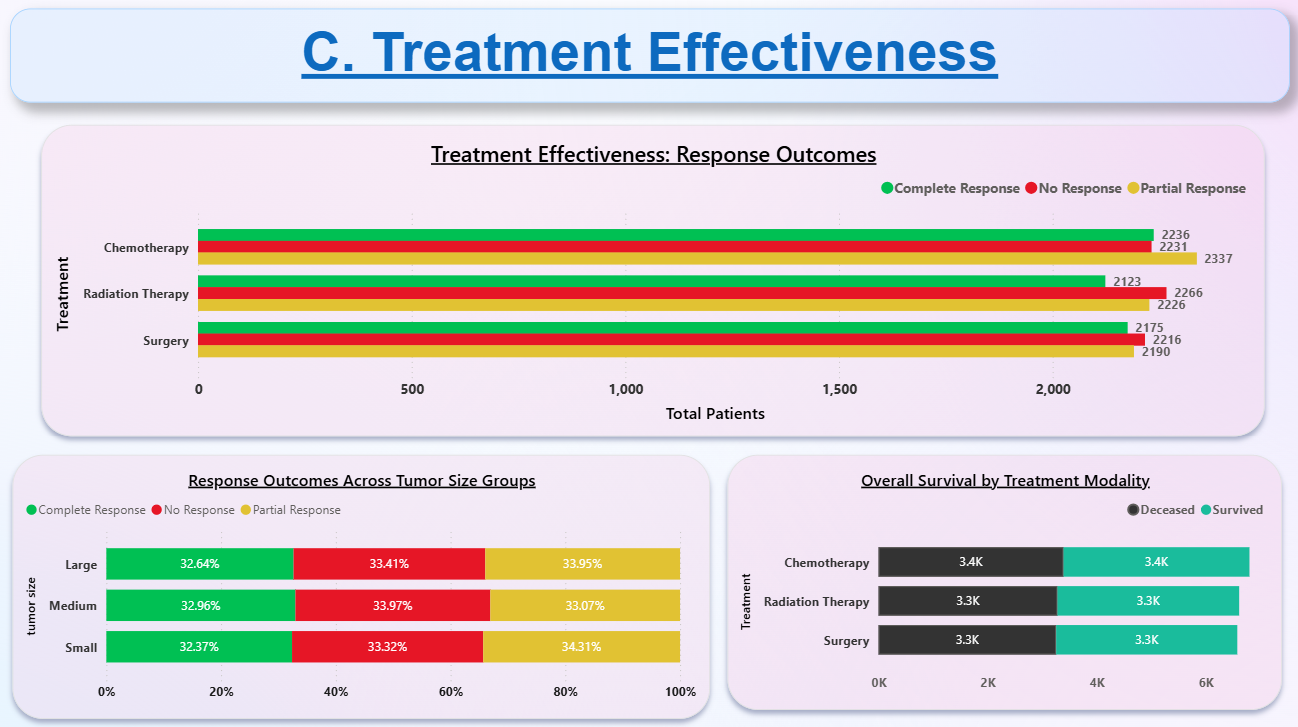

What the dashboard file says about the page in this screenshot:
{"tool":"powerbi","page":{"name":"Treatment Effectiveness","canvas":[1280,720],"ordinal":2},"visuals":[{"type":"clusteredBarChart","title":"Treatment Effectiveness: Response Outcomes","fields":{"Category":["cancer_diagnosis_data.Treatment"],"Y":["CountNonNull(cancer_diagnosis_data.Patient_ID)"],"Series":["cancer_diagnosis_data.Response_to_Treatment"]},"box":[45.4,126.1,1196.8,305.2],"z":0},{"type":"hundredPercentStackedBarChart","title":"Response Outcomes Across Tumor Size Groups","fields":{"Category":["something101.tumor size"],"Y":["Sum(something101.total pat)"],"Series":["something101.Response"]},"box":[17.7,448.9,682.2,258.5],"z":1000},{"type":"barChart","title":"Overall Survival by Treatment Modality","fields":{"Category":["cancer_diagnosis_data.Treatment"],"Y":["CountNonNull(cancer_diagnosis_data.Survival_Status)"],"Series":["cancer_diagnosis_data.Survival_Status"]},"box":[716.3,448.9,542.3,249.7],"z":2000},{"type":"textbox","box":[15.1,12.6,1252.3,92.1],"z":3000}]}

Visuals, with their boxes in screenshot pixels (x1, y1, x2, y2), scaled from the page's 1280x720 canvas onto the 1298x727 screenshot:
"Treatment Effectiveness: Response Outcomes" clusteredBarChart: left=46, top=127, right=1260, bottom=435
"Response Outcomes Across Tumor Size Groups" hundredPercentStackedBarChart: left=18, top=453, right=710, bottom=714
"Overall Survival by Treatment Modality" barChart: left=726, top=453, right=1276, bottom=705
textbox: left=15, top=13, right=1285, bottom=106
